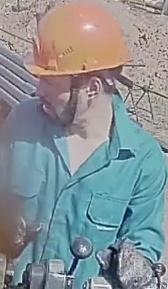gloves: (95, 235, 159, 289)
helmet: (23, 0, 131, 84)
vest: (2, 90, 167, 288)
